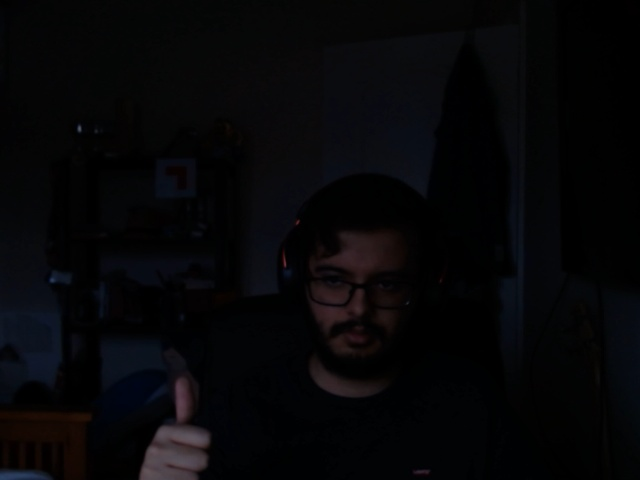Thumbs up: (125, 367, 223, 480)
